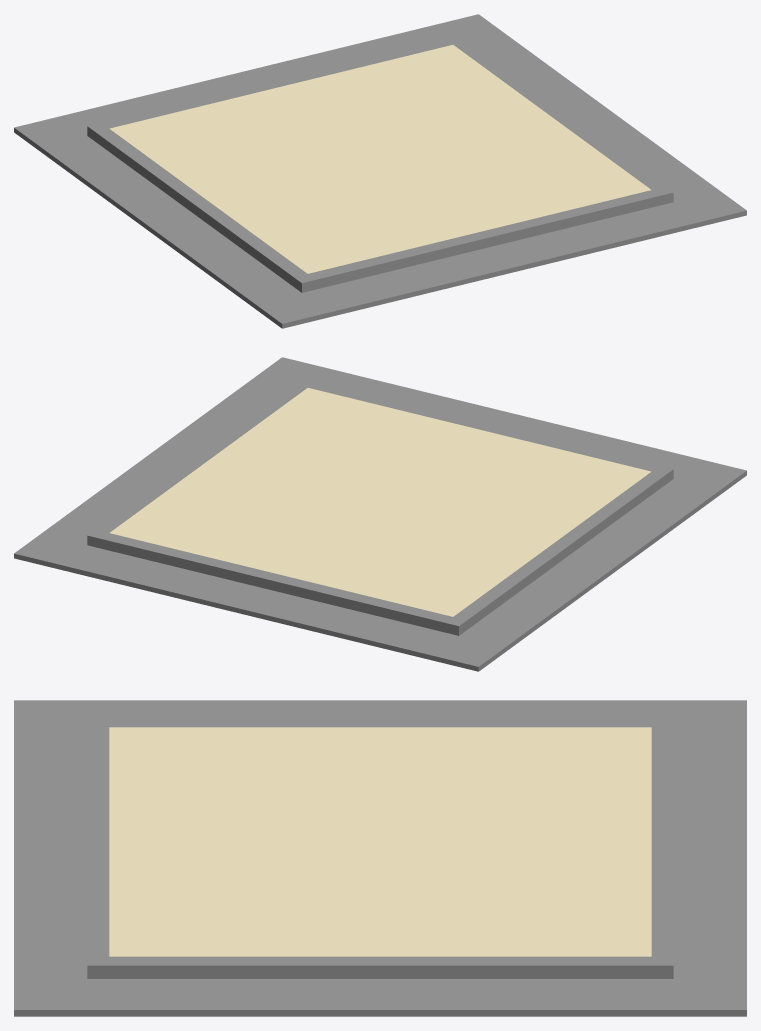
Rendered from Foundation.fbx.
3 views of the same model, one above another, from view 1: azimuth 30°, elevation 25°; view 2: azimuth 150°, elevation 25°; view 3: azimuth 270°, elevation 25° (orthographic). The views are drawn at different scales.
Parts seen in each view (by area): view 1: Untitled.002; view 2: Untitled.002; view 3: Untitled.002.
Boxes of the visible parts, x1,y1,x2,y2 form: Untitled.002: [14, 14, 746, 328]; Untitled.002: [14, 357, 746, 671]; Untitled.002: [14, 700, 746, 1016].
Size of the model in its own units: 1000 by 30 by 1000.
